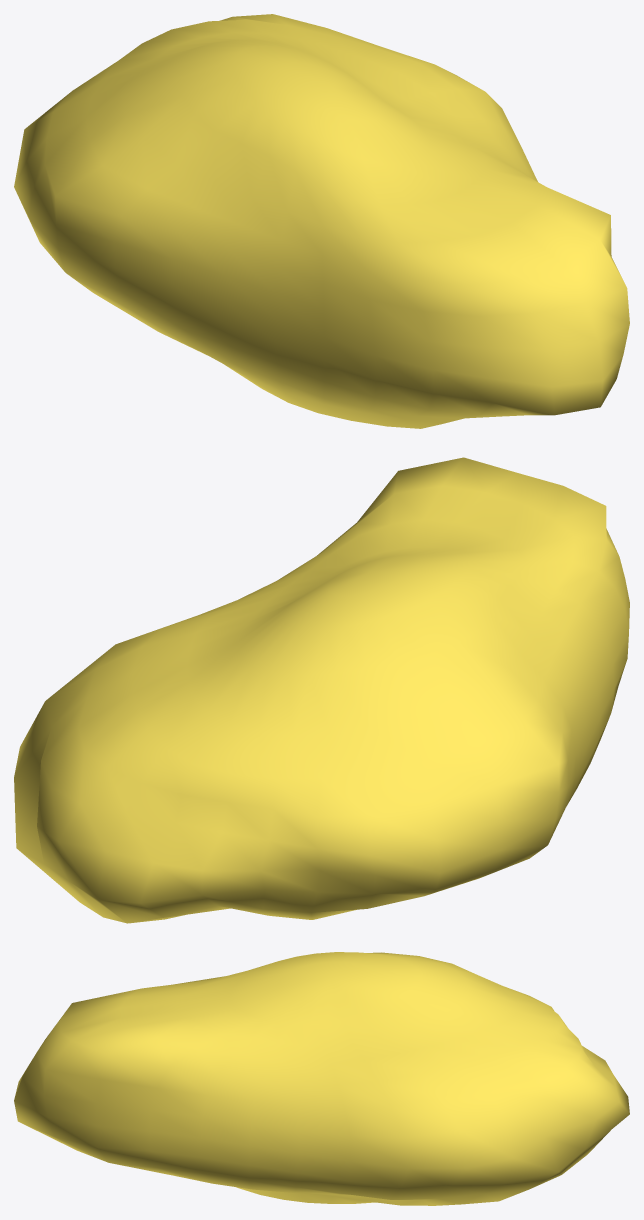
The model's file is Nugget2.fbx.
3 views of the same model, one above another, from view 1: azimuth 30°, elevation 25°; view 2: azimuth 150°, elevation 25°; view 3: azimuth 270°, elevation 25° (orthographic). The views are drawn at different scales.
Parts seen in each view (by area): view 1: ChickenNugget_Raw.001; view 2: ChickenNugget_Raw.001; view 3: ChickenNugget_Raw.001.
Boxes of the visible parts, x1,y1,x2,y2 form: ChickenNugget_Raw.001: [14, 14, 629, 428]; ChickenNugget_Raw.001: [14, 457, 629, 923]; ChickenNugget_Raw.001: [14, 952, 629, 1205].
Size of the model in its own units: 9.58 by 5.69 by 15.39.
